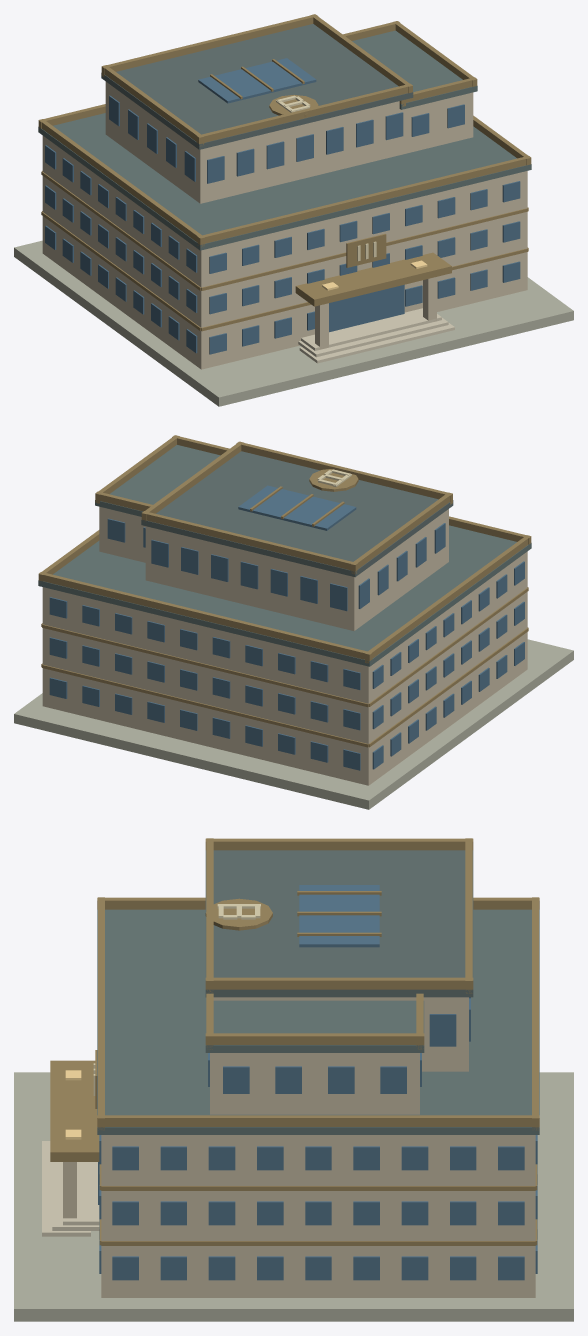
File: bank.glb
The picture shows the model from 3 angles, top to bottom: view 1: azimuth 30°, elevation 25°; view 2: azimuth 150°, elevation 25°; view 3: azimuth 270°, elevation 25°; orthographic projection. The views are drawn at different scales.
Parts seen in each view (by area): view 1: bank-main, bank-upper, bank-plinth, bank-main-windows, bank-entrance, bank-east-bay, bank-upper-windows, bank-roof-glass, bank-entry-glass, bank-emblem, bank-east-bay-windows; view 2: bank-main, bank-upper, bank-main-windows, bank-plinth, bank-east-bay, bank-upper-windows, bank-roof-glass, bank-emblem; view 3: bank-main, bank-upper, bank-plinth, bank-east-bay, bank-main-windows, bank-entrance, bank-roof-glass, bank-east-bay-windows, bank-emblem, bank-upper-windows.
Part boxes in pixels (<box>): bank-main: <box>38,104,531,369</box>; bank-upper: <box>101,14,413,203</box>; bank-plinth: <box>14,240,573,406</box>; bank-main-windows: <box>45,145,520,354</box>; bank-entrance: <box>210,59,454,363</box>; bank-east-bay: <box>343,21,477,152</box>; bank-upper-windows: <box>109,95,403,183</box>; bank-roof-glass: <box>198,58,316,103</box>; bank-entry-glass: <box>329,284,404,332</box>; bank-emblem: <box>269,95,386,267</box>; bank-east-bay-windows: <box>411,104,464,136</box>; bank-main: <box>38,516,531,785</box>; bank-upper: <box>141,441,453,630</box>; bank-main-windows: <box>49,561,524,770</box>; bank-plinth: <box>14,639,573,809</box>; bank-east-bay: <box>95,435,229,562</box>; bank-upper-windows: <box>151,523,445,611</box>; bank-roof-glass: <box>238,485,356,530</box>; bank-emblem: <box>309,469,358,491</box>; bank-main: <box>97,897,539,1297</box>; bank-upper: <box>205,838,473,1071</box>; bank-plinth: <box>14,1072,573,1321</box>; bank-east-bay: <box>205,993,424,1114</box>; bank-main-windows: <box>99,1135,537,1280</box>; bank-entrance: <box>42,891,381,1236</box>; bank-roof-glass: <box>299,885,379,947</box>; bank-east-bay-windows: <box>208,1053,421,1093</box>; bank-emblem: <box>93,898,272,1108</box>; bank-upper-windows: <box>429,997,470,1046</box>.
Size of the model in its own units: 8 by 4.42 by 8.
